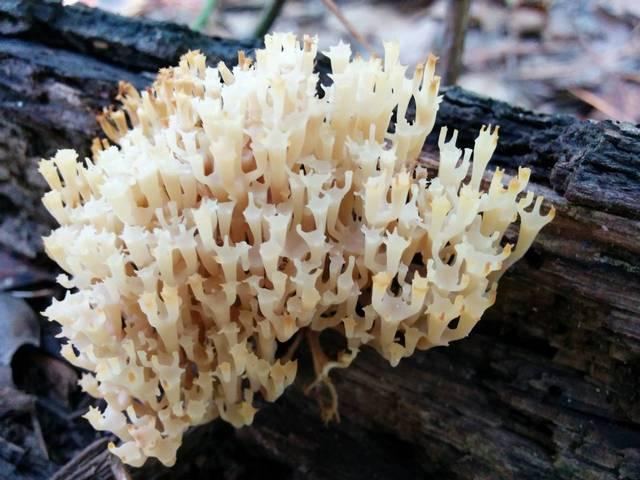edible_mushroom: (35, 29, 556, 469)
